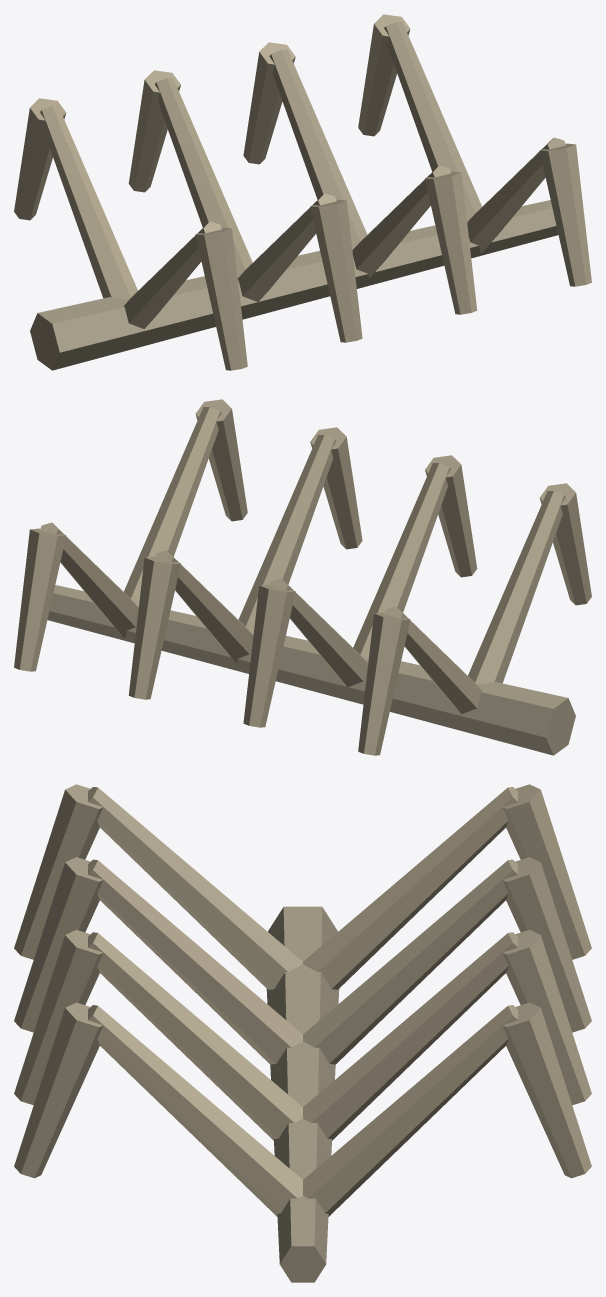
The model's file is desert-ribs.glb.
3 views of the same model, one above another, from view 1: azimuth 30°, elevation 25°; view 2: azimuth 150°, elevation 25°; view 3: azimuth 270°, elevation 25° (orthographic). The views are drawn at different scales.
Visible parts, largest first — view 1: desert-ribs; view 2: desert-ribs; view 3: desert-ribs.
Part boxes in pixels (x1=…): desert-ribs: x1=14, y1=14, x2=591, y2=370; desert-ribs: x1=14, y1=399, x2=591, y2=755; desert-ribs: x1=14, y1=784, x2=591, y2=1282.
Bounding box in the file's own units: 0.9 × 0.3009 × 0.6717.
